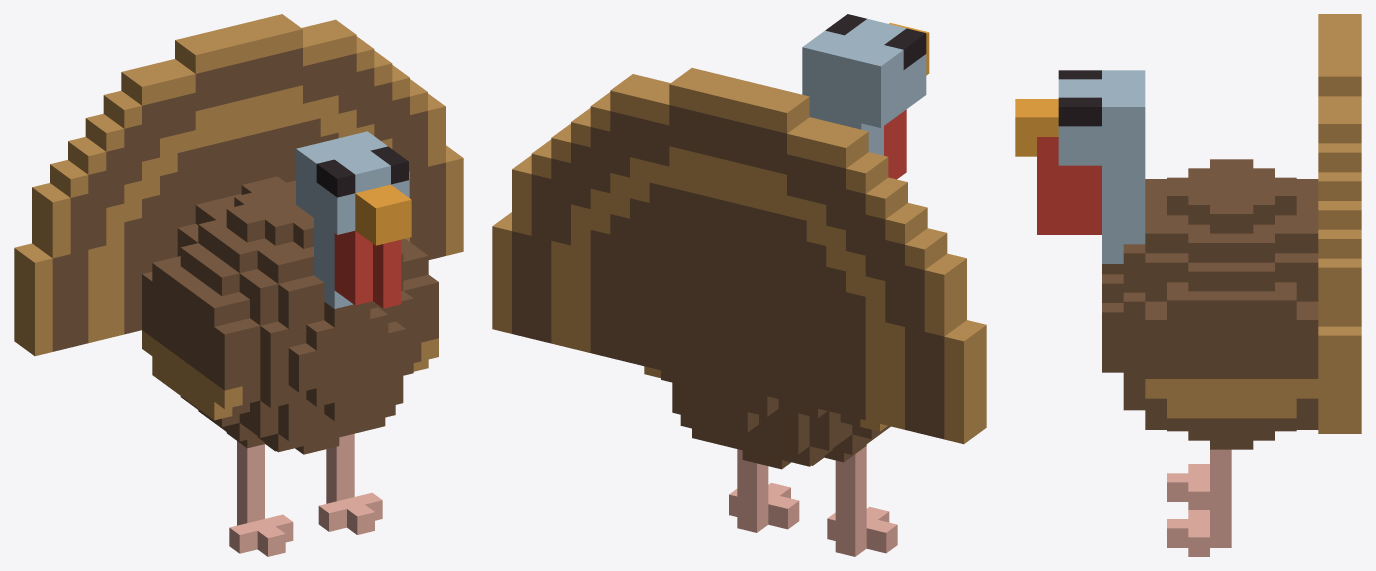
Rendered from turkey.obj.
3 views of the same model, side by side, from view 1: azimuth 30°, elevation 25°; view 2: azimuth 150°, elevation 25°; view 3: azimuth 270°, elevation 25° (orthographic). The views are drawn at different scales.
Visible parts, largest first — view 1: turkey; view 2: turkey; view 3: turkey.
Boxes of the visible parts, <box> form: turkey: <box>14,14,463,556</box>; turkey: <box>492,14,986,556</box>; turkey: <box>1015,14,1361,556</box>.
Bounding box in the file's own units: 2.4 × 2.4 × 1.6.
1 material, 1 textured.
